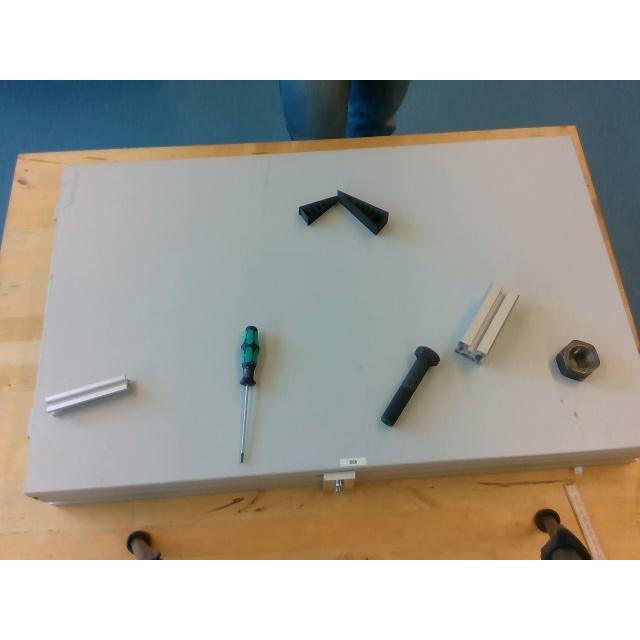F20_20_G: (46, 375, 130, 413)
M20_100: (380, 346, 440, 426)
M30: (555, 340, 599, 380)
S40_40_G: (455, 284, 517, 361)
Screwdriver: (238, 324, 258, 464)
